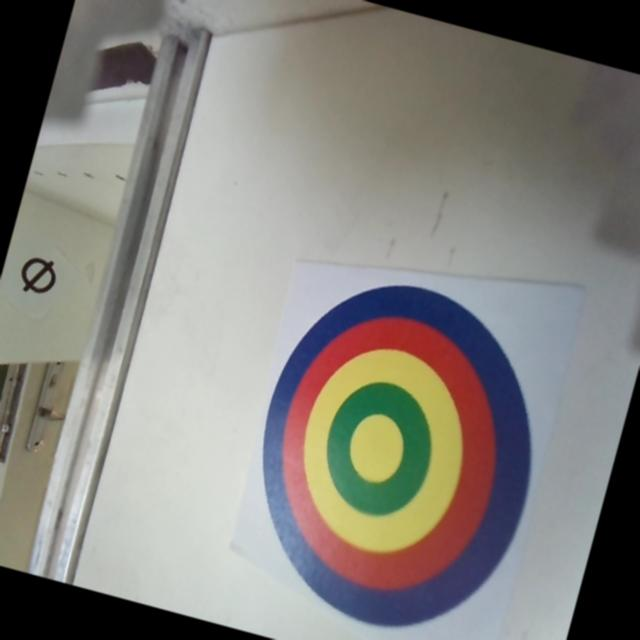cogn: (217, 253, 573, 640)
